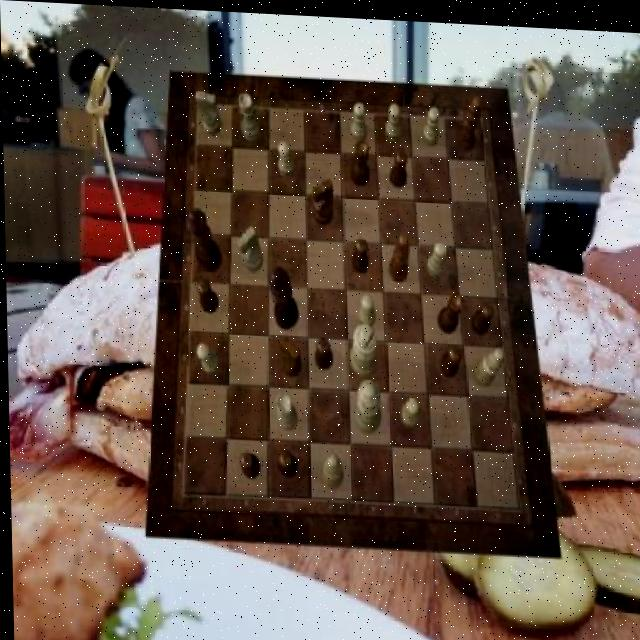bishop: (454, 91, 482, 148), (388, 230, 410, 280)
black-bishop: (266, 264, 297, 328)
black-king: (312, 176, 334, 222), (278, 334, 301, 375)
black-knight: (469, 296, 493, 331), (438, 339, 461, 374), (195, 277, 217, 312), (389, 145, 407, 183), (350, 234, 367, 271), (238, 450, 260, 478), (313, 334, 331, 367), (275, 448, 296, 476)
black-pawn: (185, 206, 221, 271)
black-queen: (435, 287, 463, 329), (350, 135, 370, 182)
black-rook: (470, 342, 504, 382), (320, 449, 343, 485)
white-bishop: (349, 319, 377, 374)
white-king: (236, 223, 263, 270), (195, 89, 220, 134)
white-knight: (425, 237, 447, 274), (197, 342, 220, 375), (349, 99, 367, 139), (422, 102, 440, 142), (384, 99, 401, 138), (357, 291, 375, 326), (278, 137, 295, 174), (400, 393, 418, 425)
white-pawn: (352, 376, 380, 431)
white-queen: (238, 90, 260, 140), (273, 390, 296, 428)
